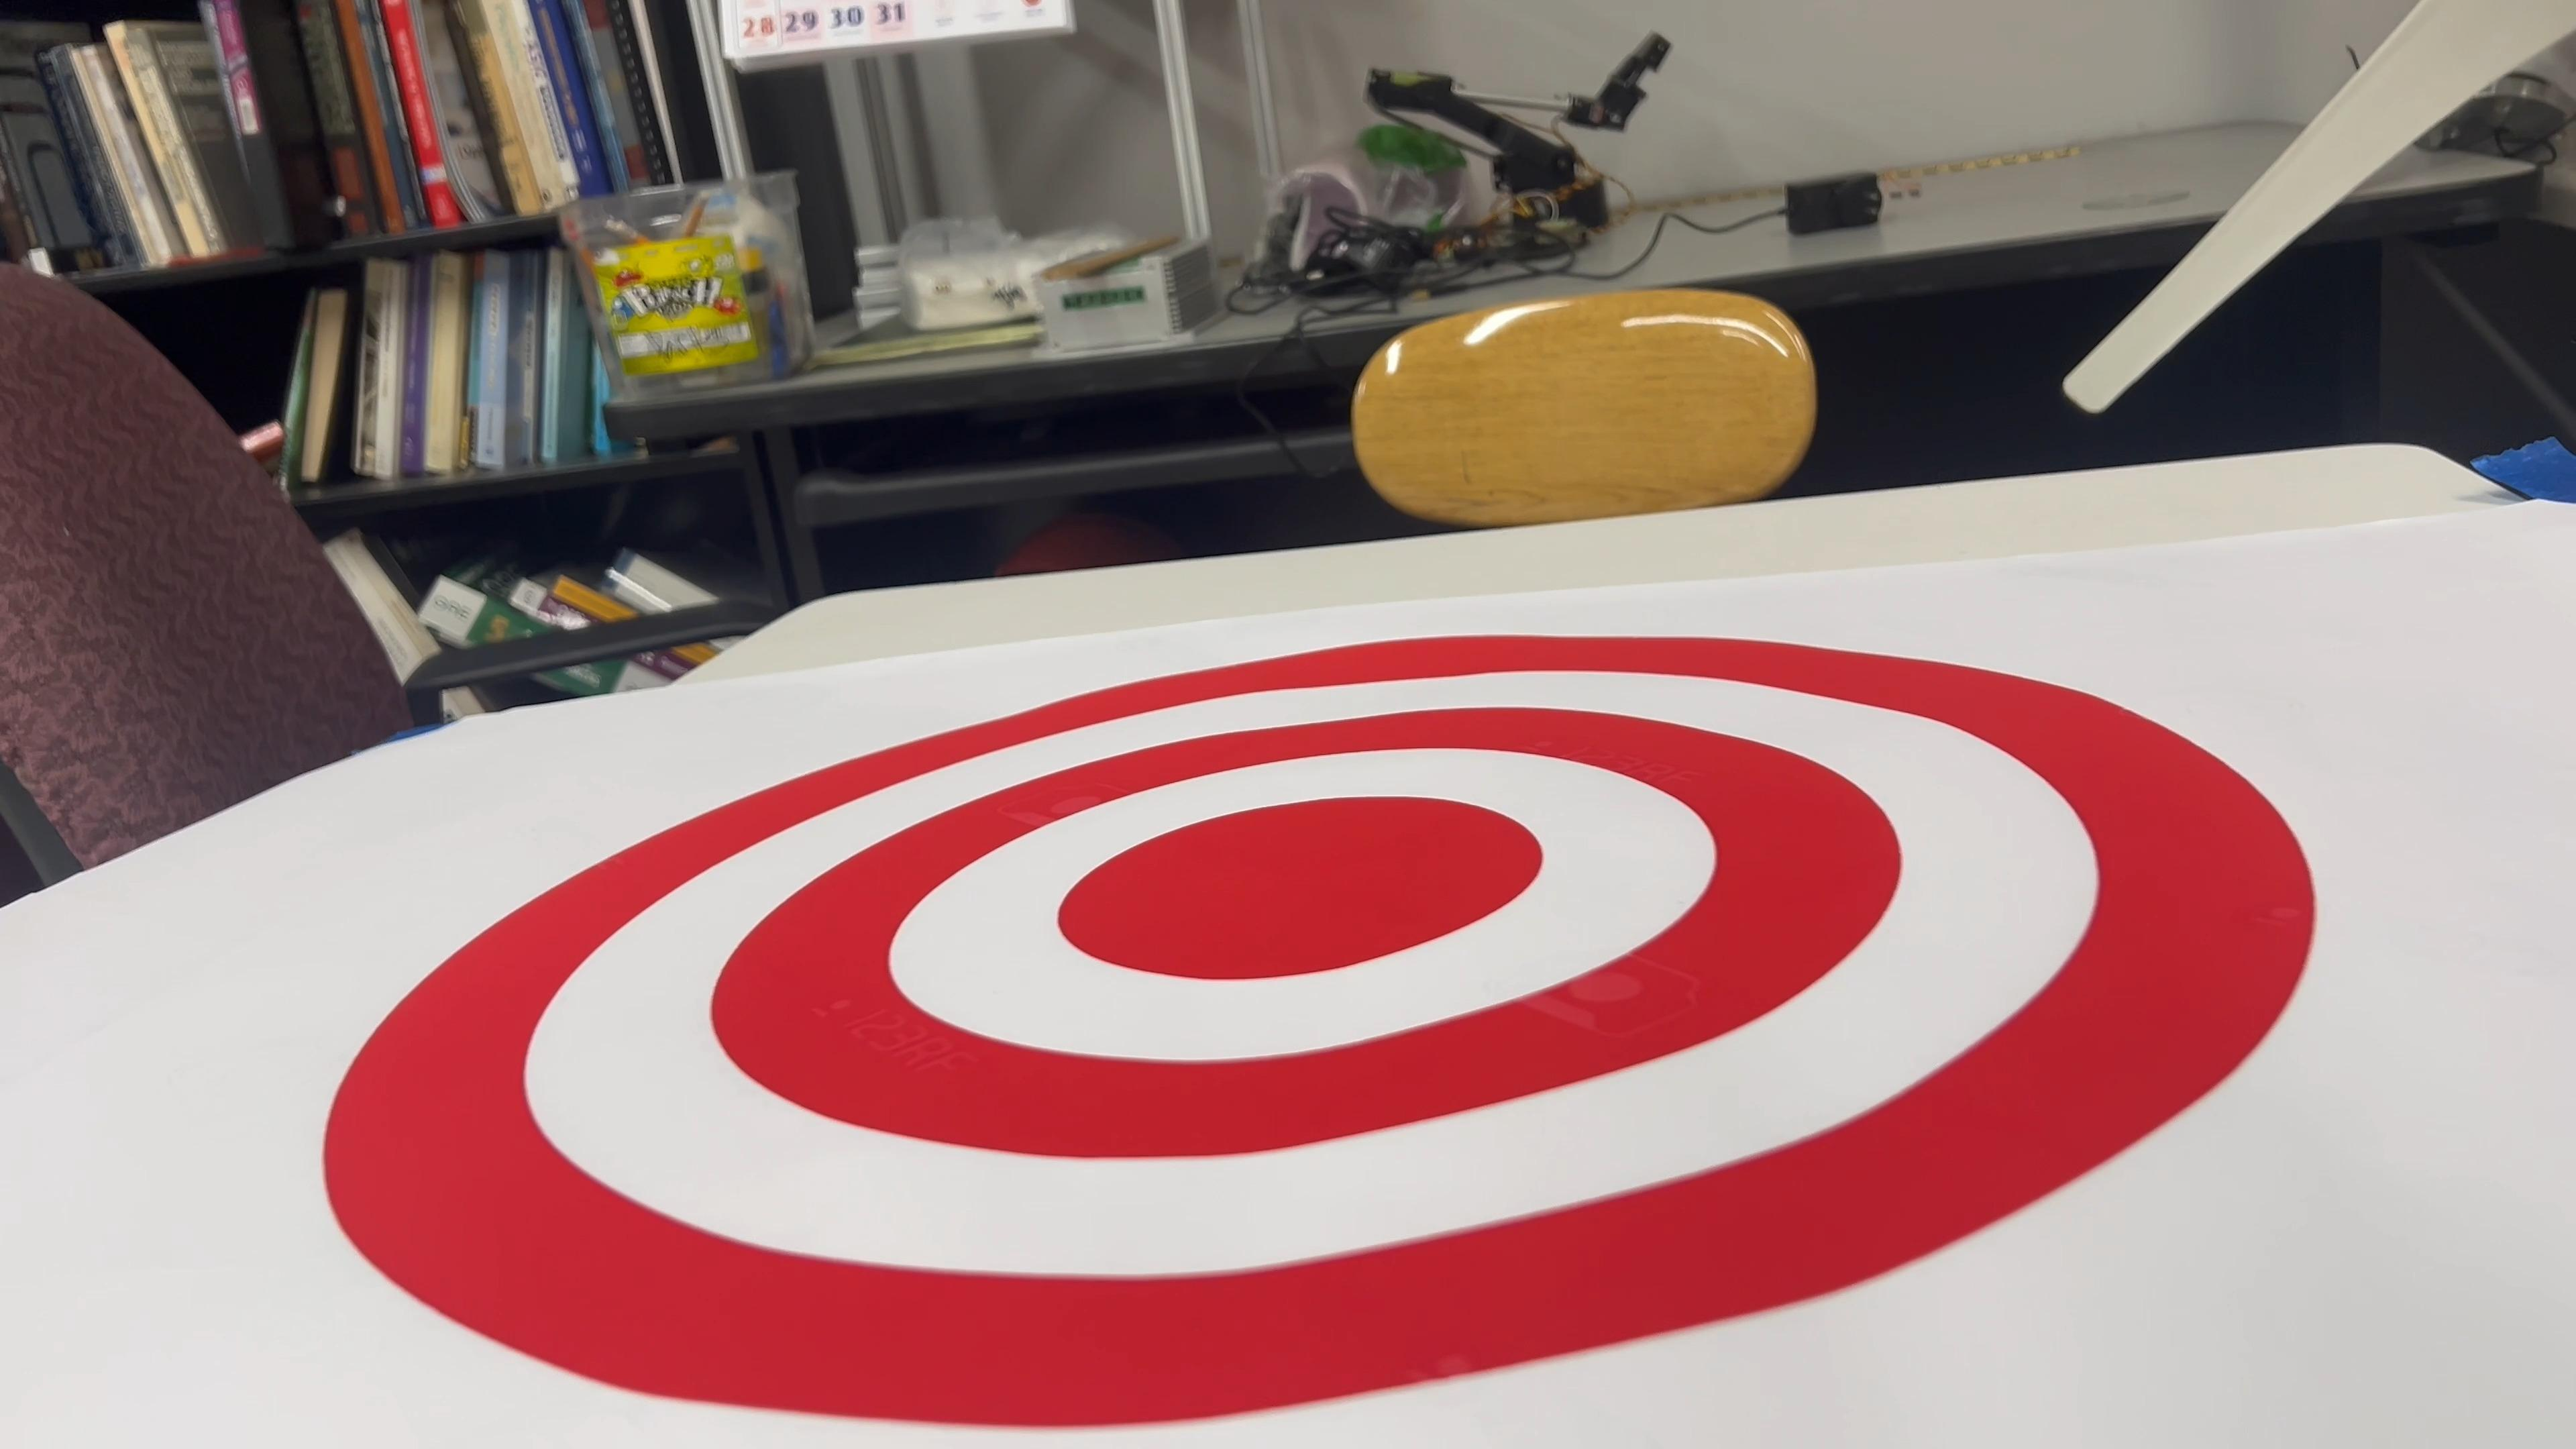target_red: (287, 609, 2365, 1444)
